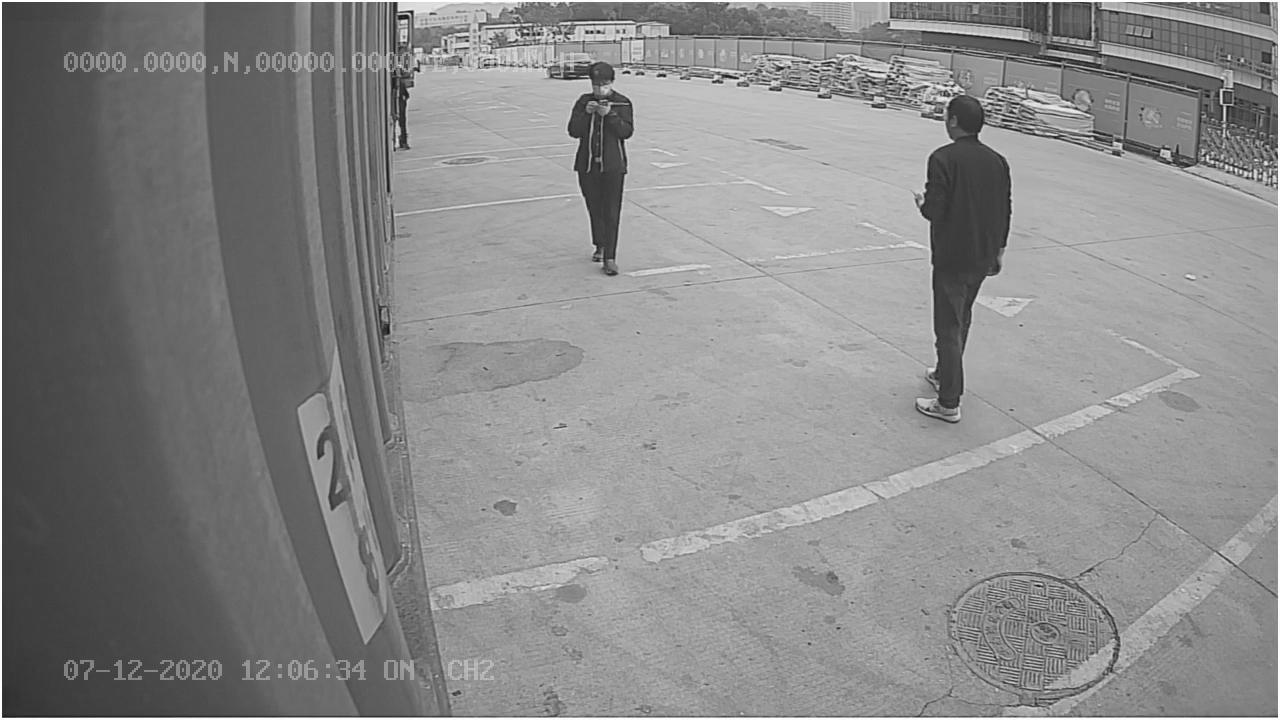person: (902, 94, 1020, 421)
